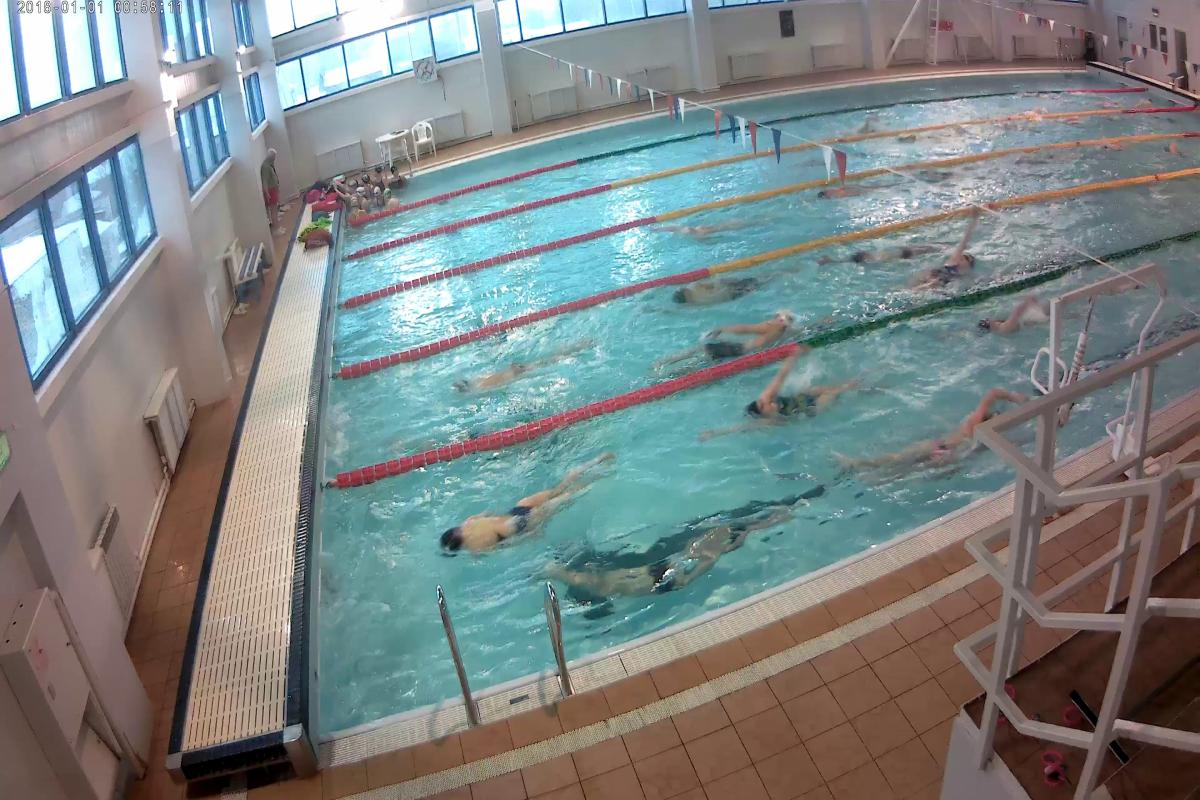swimmer: (573, 513, 755, 593), (468, 468, 604, 546), (853, 419, 991, 490), (728, 363, 850, 440), (674, 313, 781, 361), (964, 285, 1044, 340), (913, 244, 990, 300), (450, 359, 585, 384), (801, 172, 884, 209), (835, 236, 908, 274), (668, 280, 754, 306), (662, 220, 757, 236)
